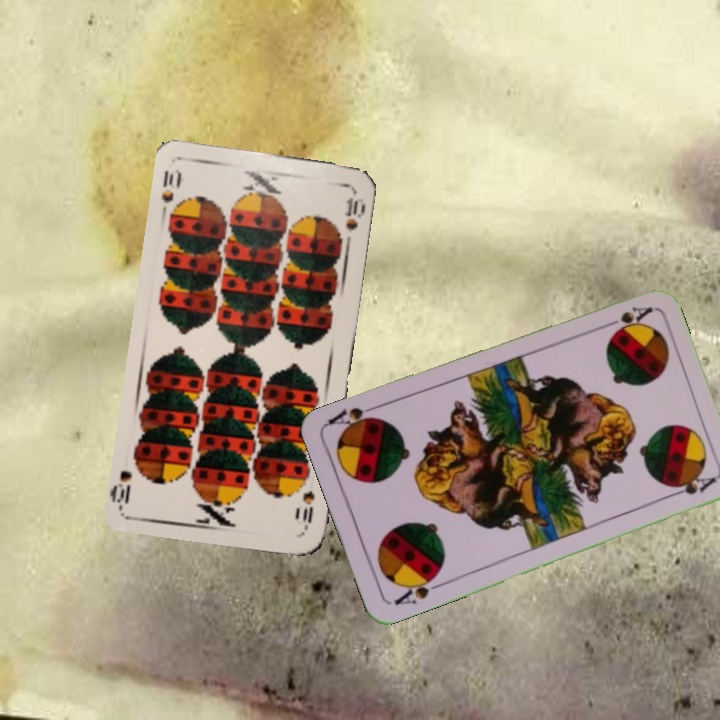S10: (157, 165, 184, 221), (298, 487, 318, 533)
SA: (390, 569, 446, 608), (597, 302, 655, 336)
